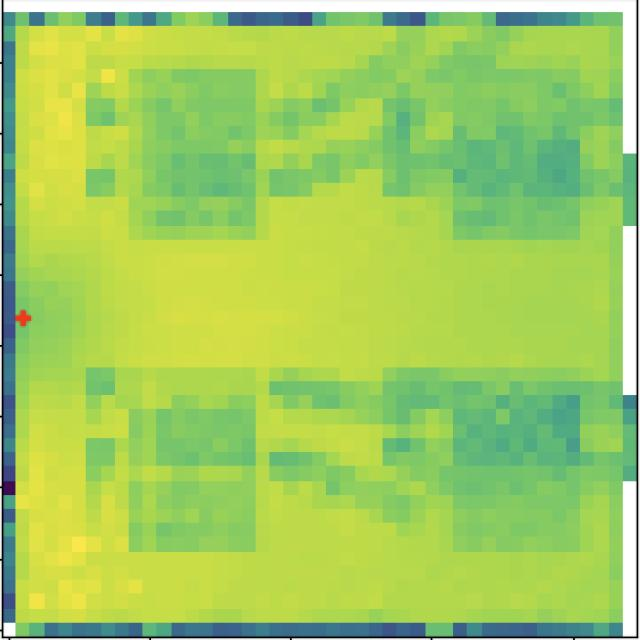Concrete: (127, 68, 258, 241)
Glass: (444, 373, 580, 552)
Metal: (115, 368, 256, 552)
Wood: (448, 68, 578, 238)
